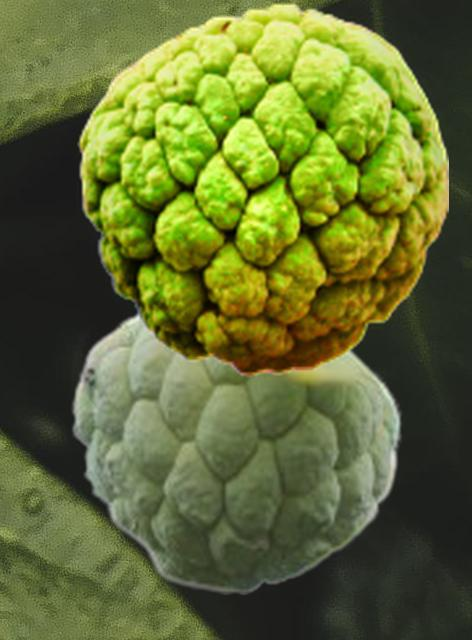atis: (77, 1, 447, 376), (70, 309, 403, 593)
